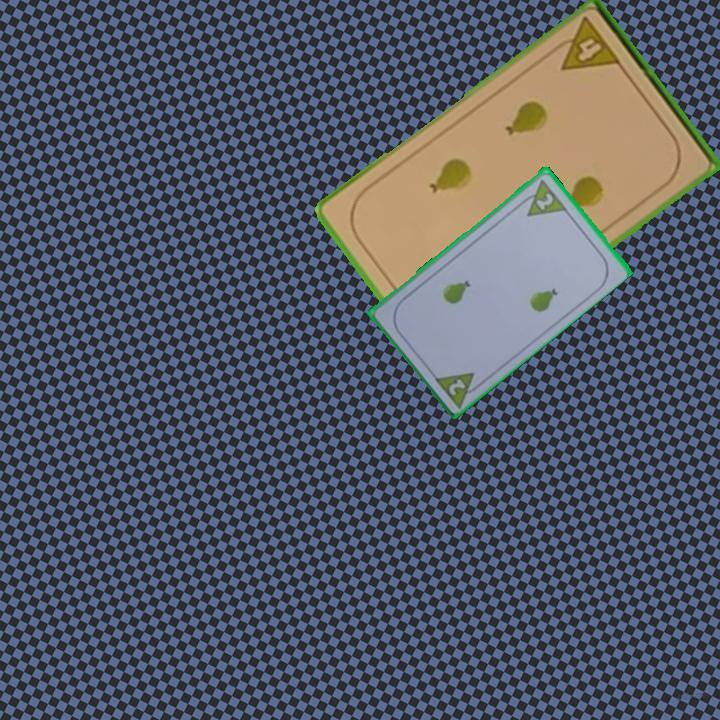2p: (430, 368, 486, 410), (532, 189, 556, 212)
4p: (546, 13, 624, 75)
